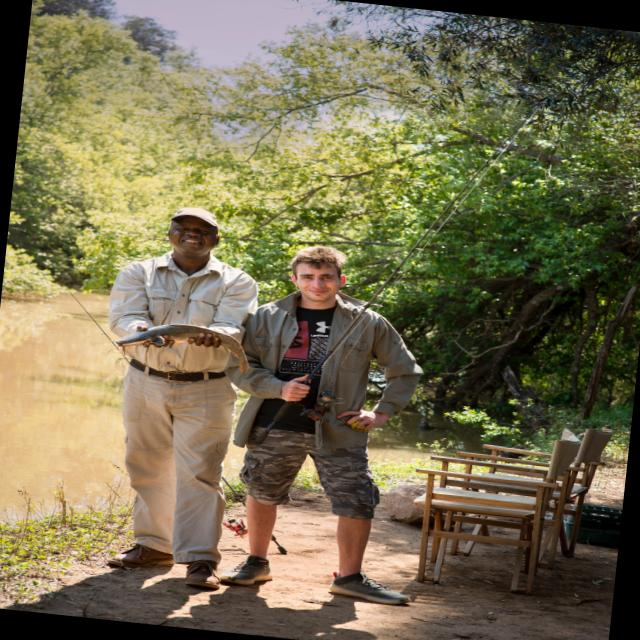animal: (88, 294, 258, 390)
poacher: (236, 198, 502, 632), (78, 162, 292, 576)
weapon: (335, 59, 593, 401)
